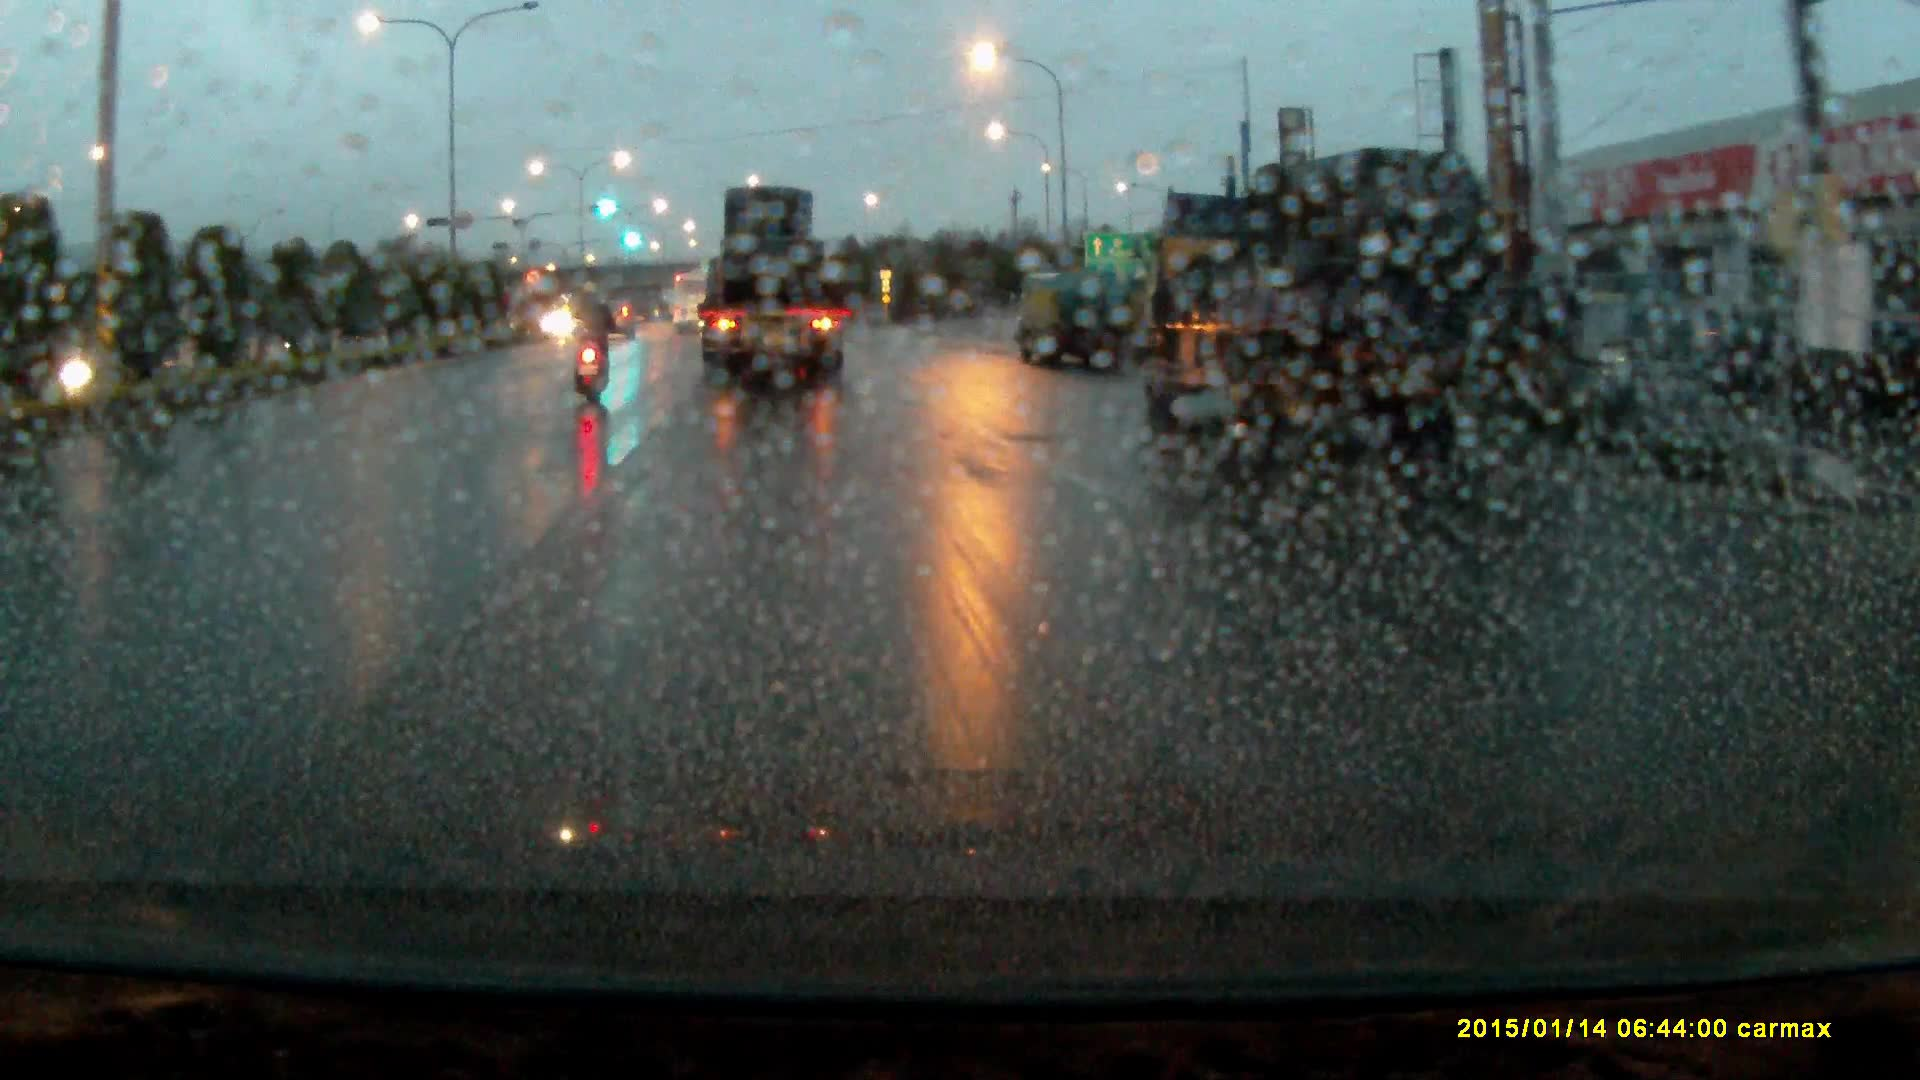rider: (566, 272, 620, 405)
vehicle: (1149, 157, 1505, 462), (695, 184, 851, 386), (1014, 269, 1131, 370), (674, 272, 710, 335), (595, 286, 639, 329)
